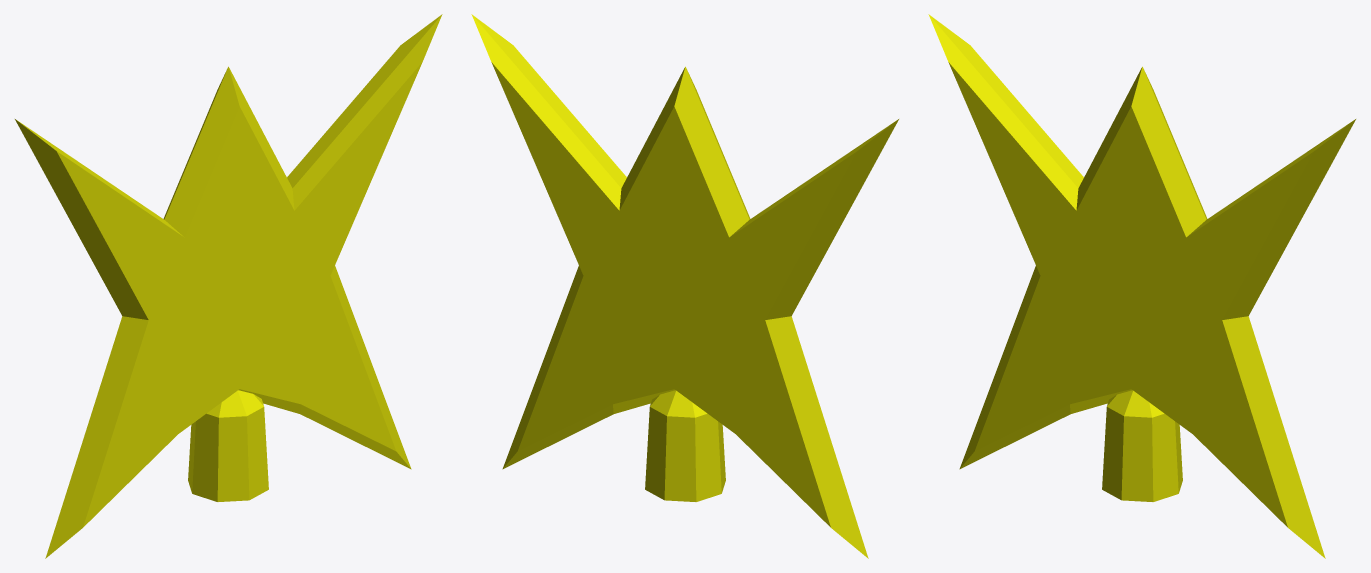
Rendered from Star.fbx.
3 renders of one model, left to right at view 1: azimuth 30°, elevation 25°; view 2: azimuth 150°, elevation 25°; view 3: azimuth 330°, elevation 25°, orthographic.
Visible parts, largest first — view 1: Star; view 2: Star; view 3: Star.
Part boxes in pixels (x1,y1,x2,y2): Star: [15, 14, 442, 558]; Star: [471, 14, 898, 558]; Star: [928, 14, 1355, 558].
Bounding box in the file's own units: 75.74 × 75.74 × 12.84.
